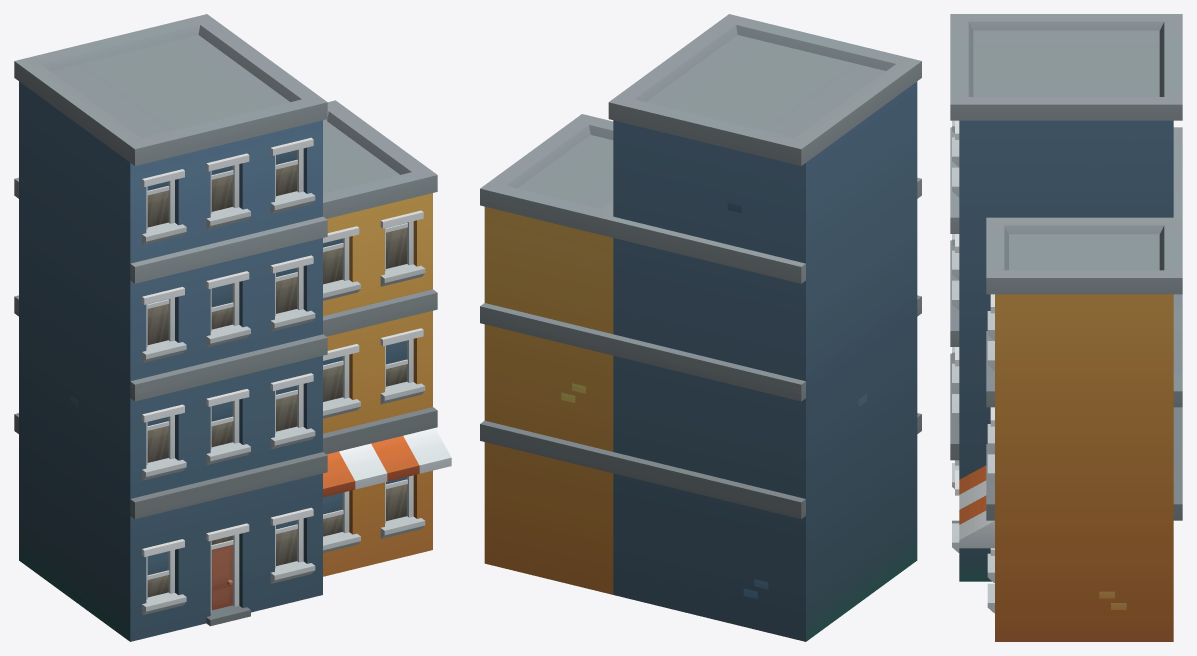
File: kay-predio-h.gltf
The picture shows the model from 3 angles, left to right: view 1: azimuth 30°, elevation 25°; view 2: azimuth 150°, elevation 25°; view 3: azimuth 270°, elevation 25°; orthographic projection. The views are drawn at different scales.
Parts seen in each view (by area): view 1: building_H_withoutBase; view 2: building_H_withoutBase; view 3: building_H_withoutBase.
Boxes of the visible parts, left/top/right/bottom form: building_H_withoutBase: left=14, top=14, right=451, bottom=641; building_H_withoutBase: left=480, top=14, right=921, bottom=641; building_H_withoutBase: left=950, top=14, right=1182, bottom=641.
Size of the model in its own units: 10.03 by 14.75 by 6.5.
Materials: 1 (1 with a texture image).
